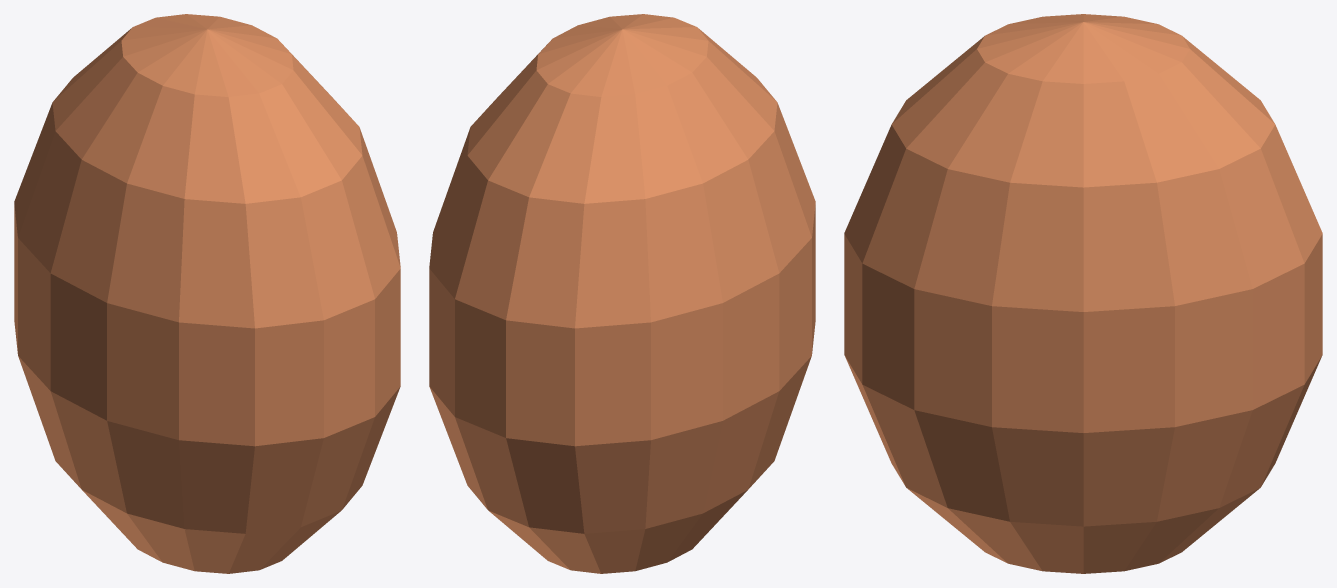
The model's file is Nose.obj.
The picture shows the model from 3 angles, left to right: view 1: azimuth 30°, elevation 25°; view 2: azimuth 150°, elevation 25°; view 3: azimuth 270°, elevation 25°; orthographic projection. The views are drawn at different scales.
Parts seen in each view (by area): view 1: Nose; view 2: Nose; view 3: Nose.
Part boxes in pixels (x1,y1,x2,y2): Nose: (14, 14, 400, 573); Nose: (429, 14, 815, 573); Nose: (844, 14, 1322, 573).
Size of the model in its own units: 0.0682 by 0.11 by 0.0877.
